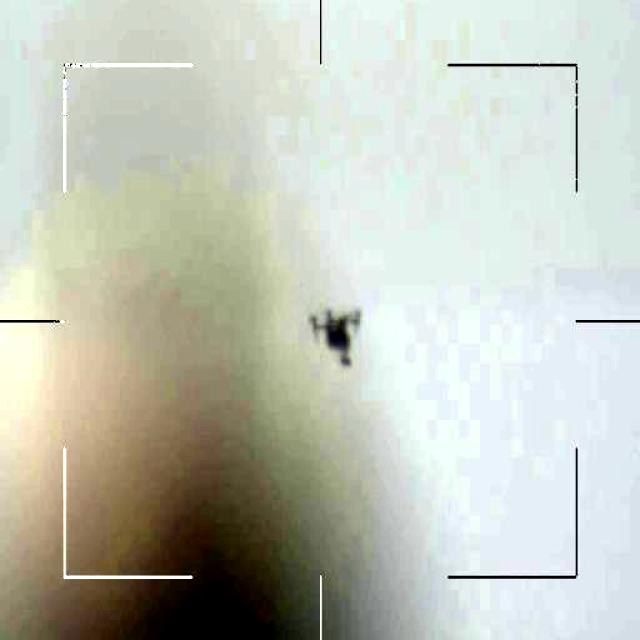bird: (304, 295, 368, 371)
